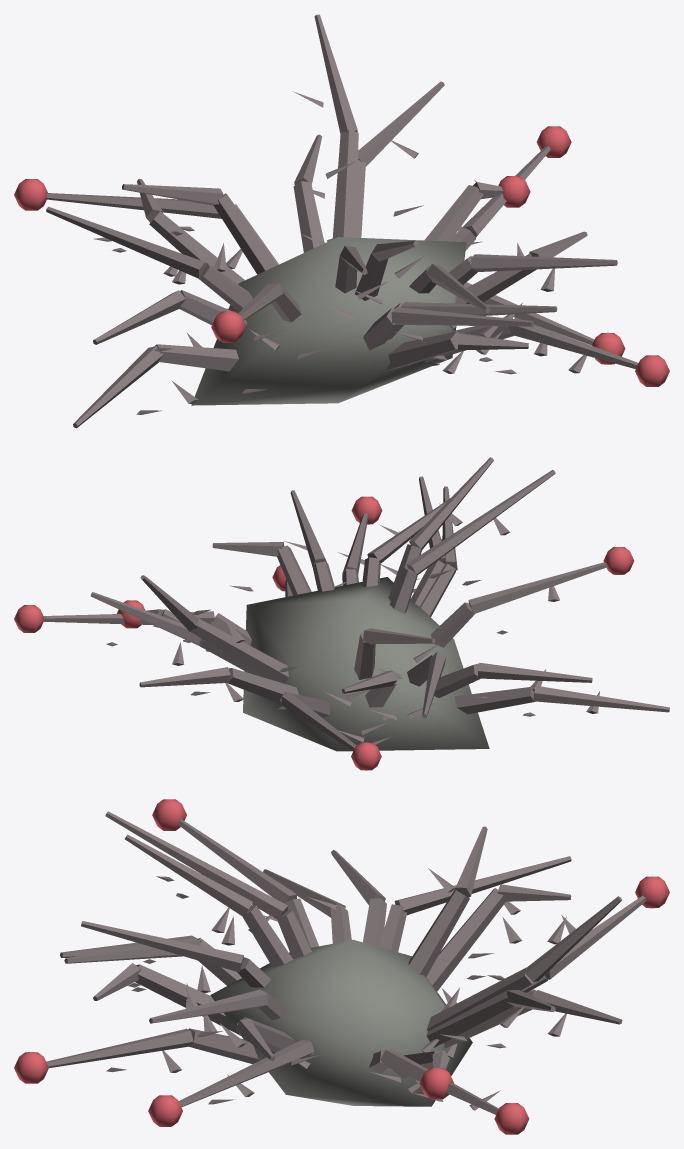
Rendered from Thorn_Bush.gltf.
The picture shows the model from 3 angles, top to bottom: view 1: azimuth 30°, elevation 25°; view 2: azimuth 150°, elevation 25°; view 3: azimuth 270°, elevation 25°; orthographic projection. The views are drawn at different scales.
Parts seen in each view (by area): view 1: Thorn_Bush; view 2: Thorn_Bush; view 3: Thorn_Bush.
Boxes of the visible parts, <box> form: Thorn_Bush: <box>14,14,669,428</box>; Thorn_Bush: <box>14,457,669,770</box>; Thorn_Bush: <box>14,799,669,1134</box>.
Bounding box in the file's own units: 1.42 × 0.5823 × 1.31.
